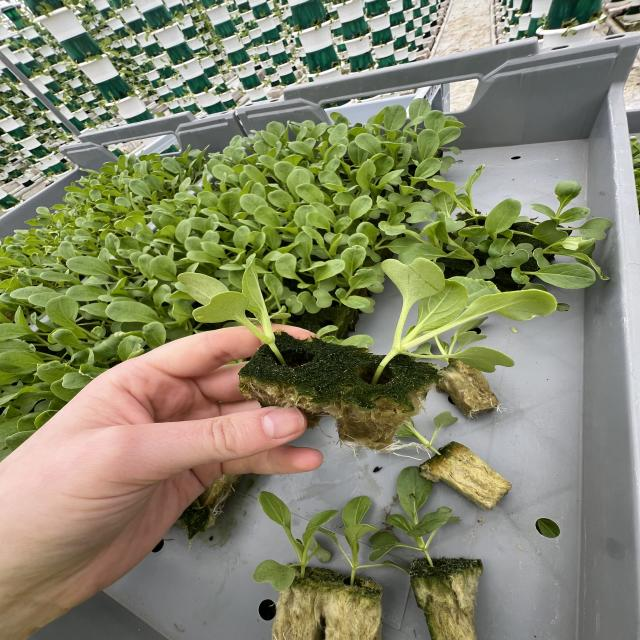bok-choi: (373, 258, 557, 381), (178, 259, 285, 365), (370, 466, 460, 568), (253, 491, 338, 591), (318, 496, 408, 586), (395, 411, 458, 455), (435, 318, 487, 355), (342, 496, 370, 528), (413, 342, 432, 355)
soil-base: (240, 332, 368, 429), (323, 351, 438, 450), (420, 441, 512, 510), (410, 558, 483, 640), (437, 359, 500, 418), (323, 578, 382, 640), (272, 579, 325, 640)
